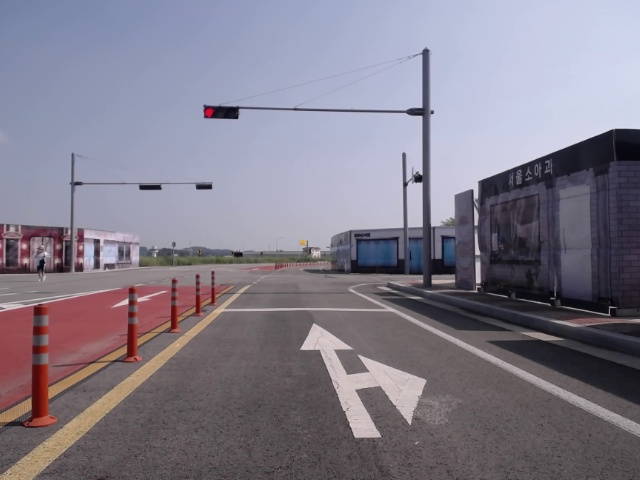red_3: (203, 106, 239, 120)
